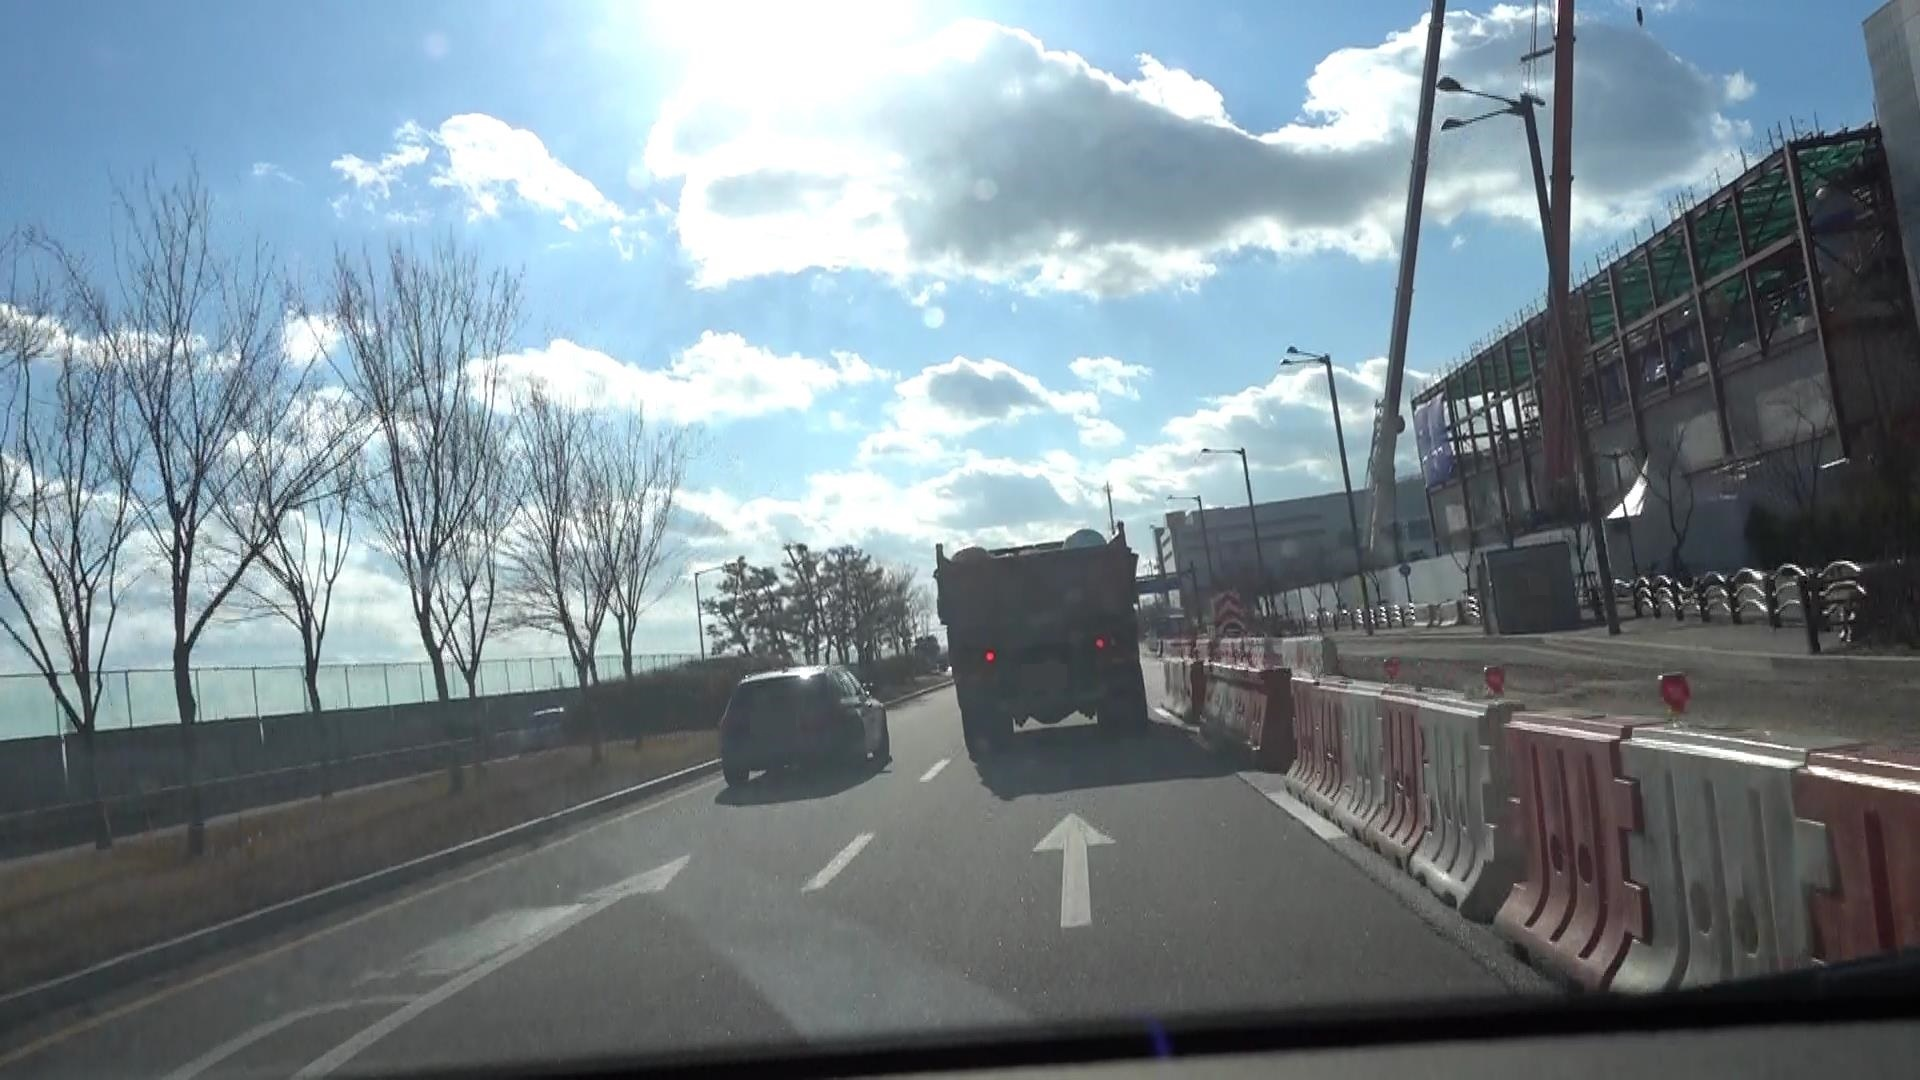불법차량: (931, 519, 1150, 764)
